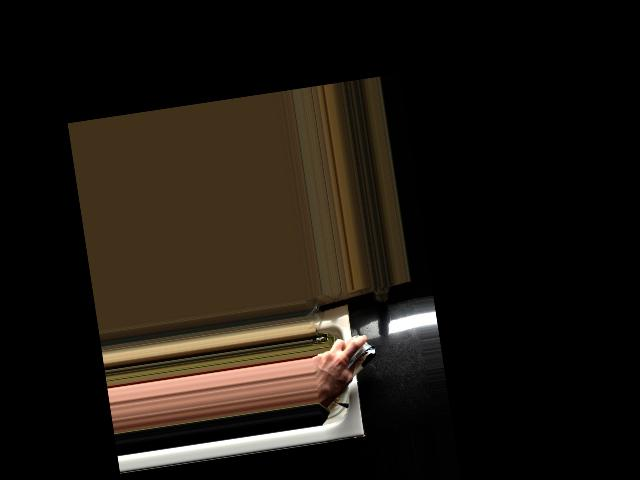cheese: (313, 335, 382, 390)
